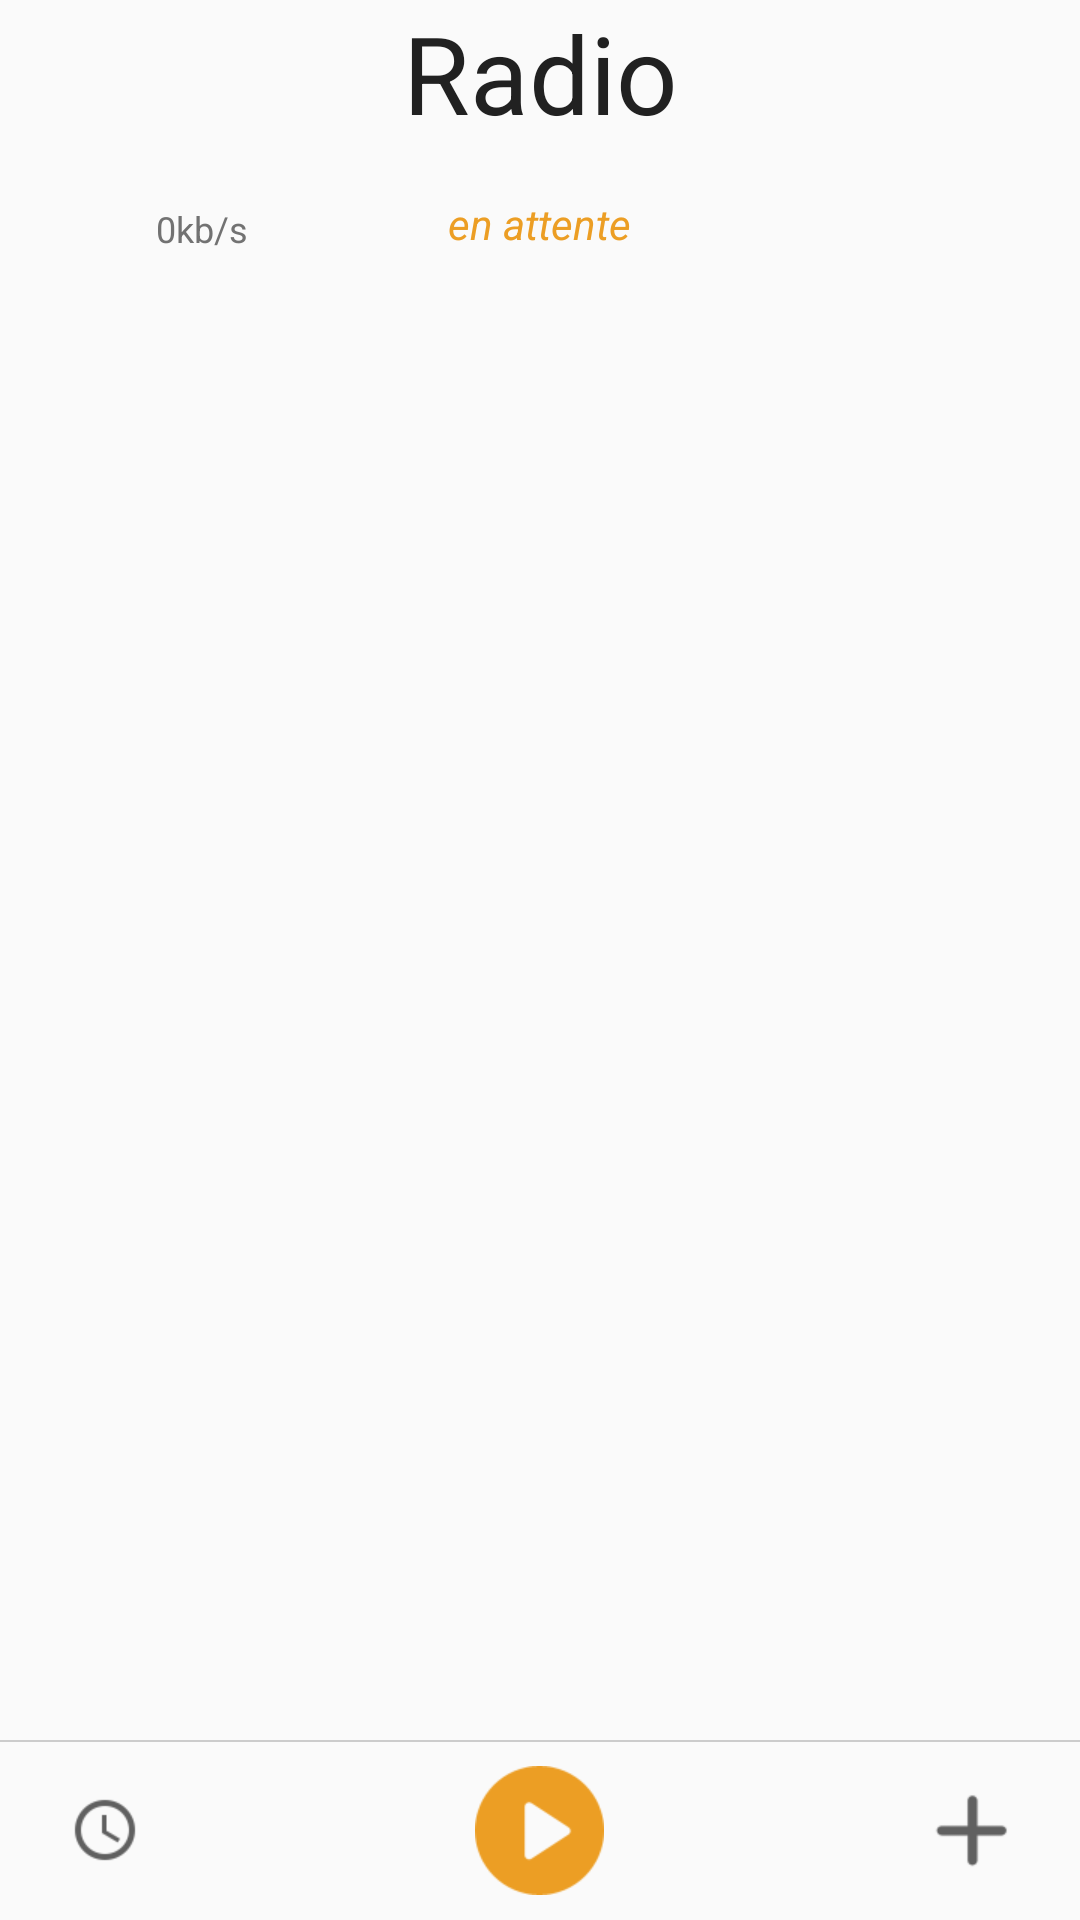

Icon click points for this 1080 × 1920 phone screenshot, format (x=x, y=y):
add: (x=971, y=1830)
musicplayer play: (x=539, y=1830)
sleep timer: (x=105, y=1830)
